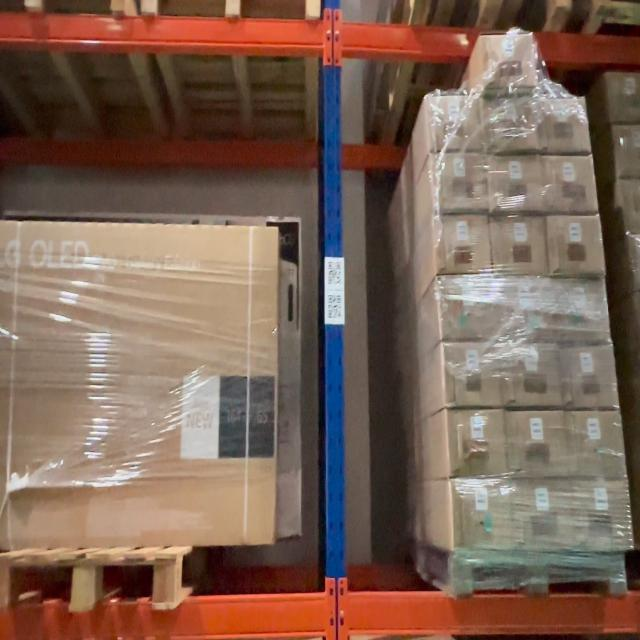box: (6, 230, 283, 538), (576, 482, 632, 549), (454, 483, 512, 547), (517, 482, 572, 549), (509, 411, 566, 475), (449, 410, 504, 475), (568, 412, 622, 477), (445, 345, 500, 405), (496, 280, 549, 339), (556, 279, 605, 342), (441, 278, 491, 339), (563, 348, 614, 407), (551, 217, 603, 274), (437, 155, 488, 212), (507, 347, 558, 404), (493, 218, 545, 271), (431, 97, 482, 151), (485, 97, 534, 153), (440, 215, 488, 272), (489, 158, 539, 212), (484, 34, 533, 89), (545, 158, 594, 212), (540, 98, 583, 150), (610, 72, 640, 123), (616, 126, 640, 178), (624, 181, 640, 231)
